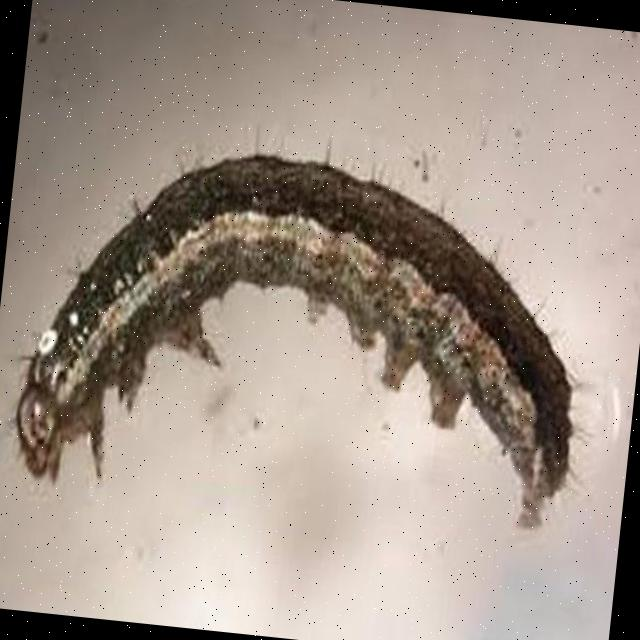worm: (6, 131, 609, 546)
